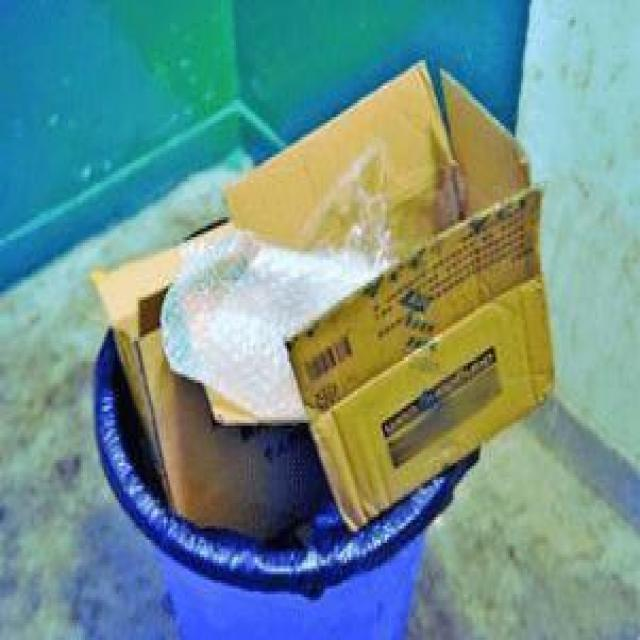cardboard: (182, 65, 558, 513)
